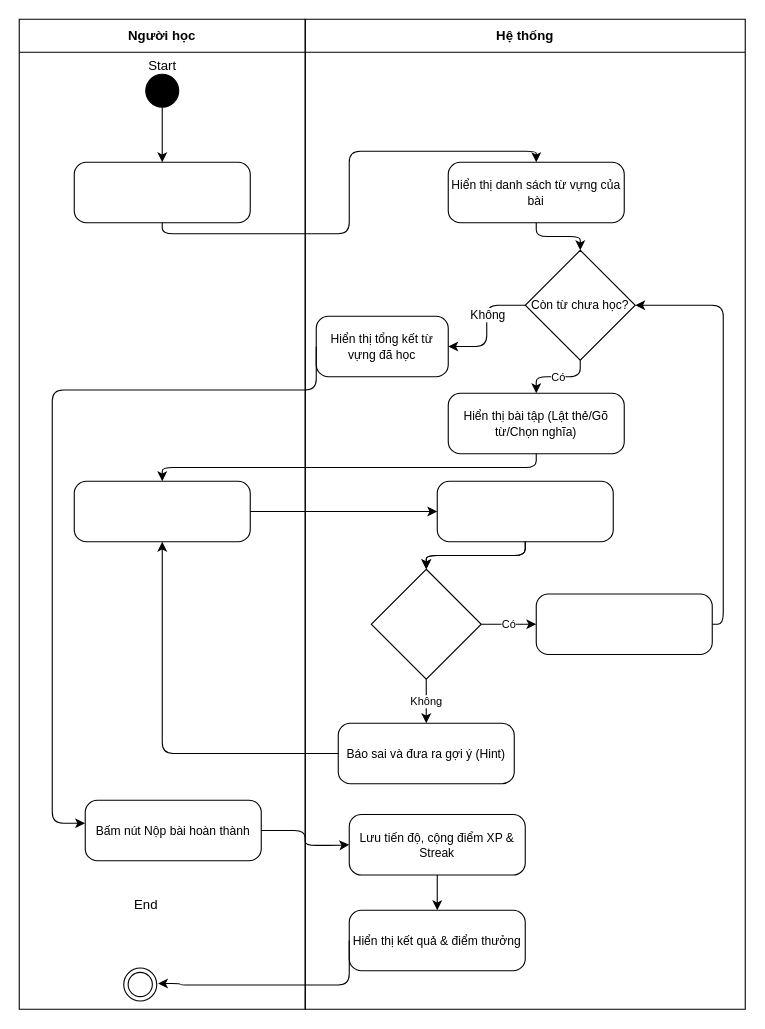
The diagram is 765 pixels wide and 1029 high, and some of its shapes have lost their labels. Here are the shapes that lost their labels. From the top down, the box of each, then its label:
(73, 161, 250, 223): Chọn bài học trong khóa học
(73, 480, 250, 542): Thực hiện bài tập tương tác
(436, 480, 613, 542): Kiểm tra đáp án của người học
(370, 568, 481, 679): Đúng?
(535, 593, 712, 654): Ghi nhận hoàn thành từ vựng
